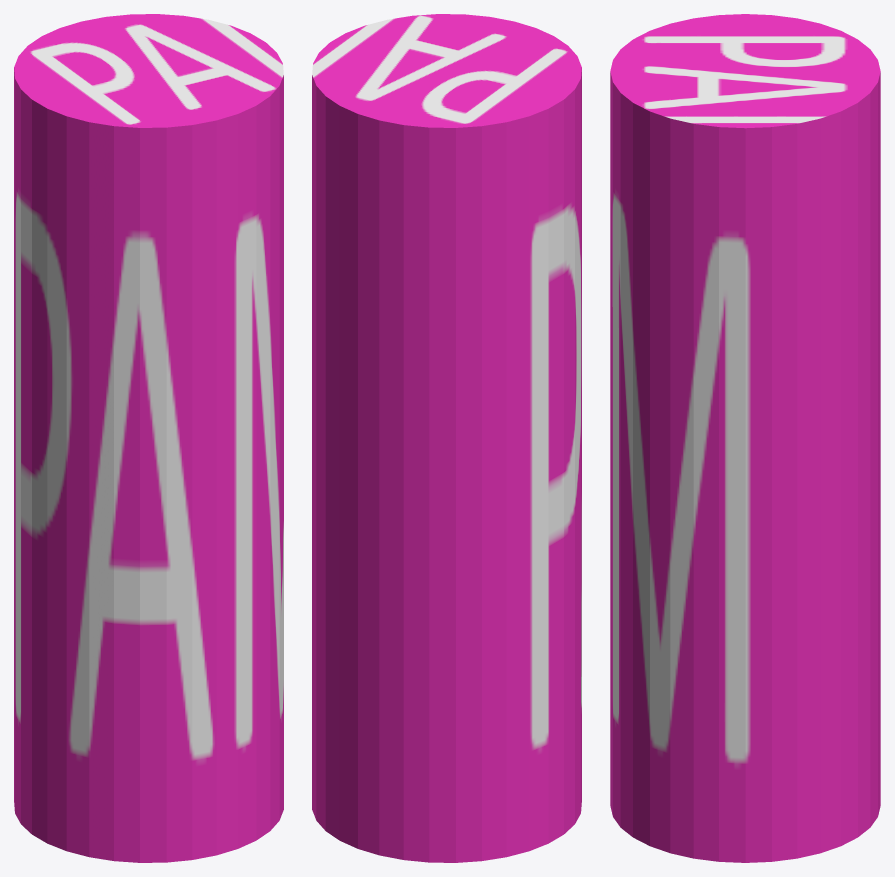
Rendered from CylinderPAM.fbx.
The picture shows the model from 3 angles, left to right: view 1: azimuth 30°, elevation 25°; view 2: azimuth 150°, elevation 25°; view 3: azimuth 270°, elevation 25°; orthographic projection.
Visible parts, largest first — view 1: Cylinder; view 2: Cylinder; view 3: Cylinder.
Part boxes in pixels (x1,y1,x2,y2): Cylinder: [14, 14, 283, 862]; Cylinder: [312, 14, 581, 862]; Cylinder: [610, 14, 880, 862].
Bounding box in the file's own units: 2 × 2 × 6.
1 material, 1 textured.
